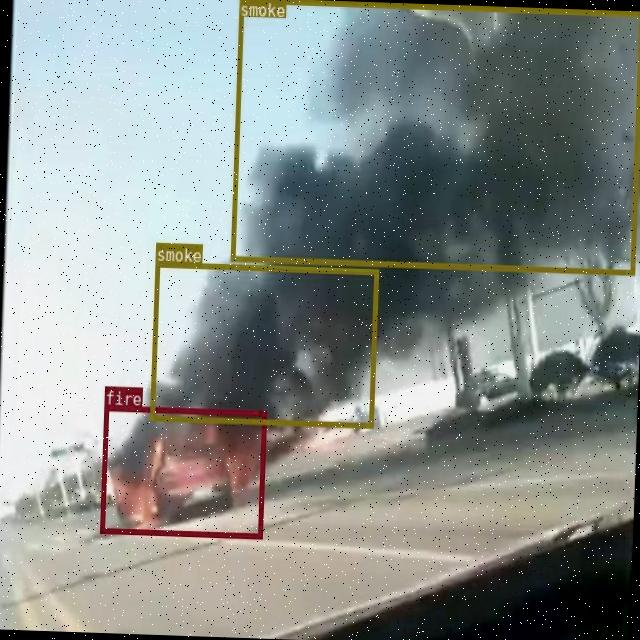fire: (99, 404, 265, 538)
smoke: (229, 0, 640, 274), (149, 260, 377, 428)
